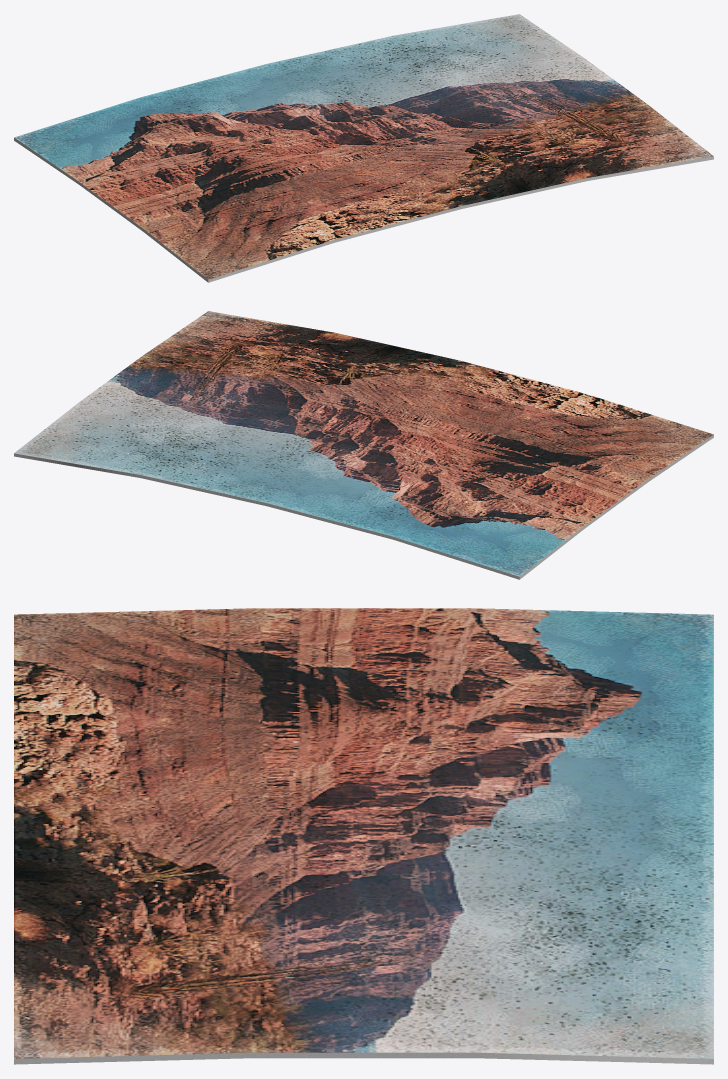
Rendered from 02_05_photograph_world02.dae.
The picture shows the model from 3 angles, top to bottom: view 1: azimuth 30°, elevation 25°; view 2: azimuth 150°, elevation 25°; view 3: azimuth 270°, elevation 25°; orthographic projection. The views are drawn at different scales.
Visible parts, largest first — view 1: photograph_world02; view 2: photograph_world02; view 3: photograph_world02.
Boxes of the visible parts, left/top/right/bottom form: photograph_world02: left=14, top=14, right=713, bottom=282; photograph_world02: left=14, top=311, right=713, bottom=579; photograph_world02: left=14, top=608, right=713, bottom=1064.
Size of the model in its own units: 0.2065 by 0.0072 by 0.1375.
